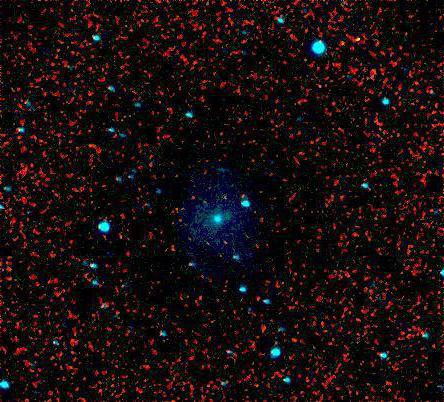star: (306, 71, 336, 101)
